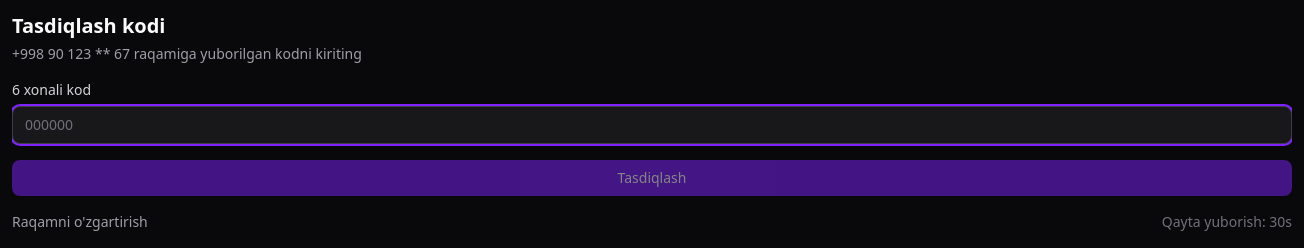
Test: OtpStep › strips non-digit characters and caps length at 6
This screenshot has width=1304, height=248.
Type "12a3456789" into the field at (652, 125), box [12,106,1292,144]
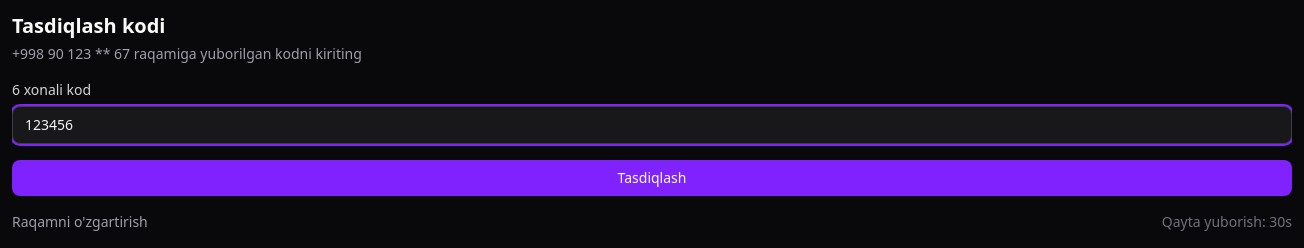
expect the field holds "123456": met, box [12,106,1292,144]
